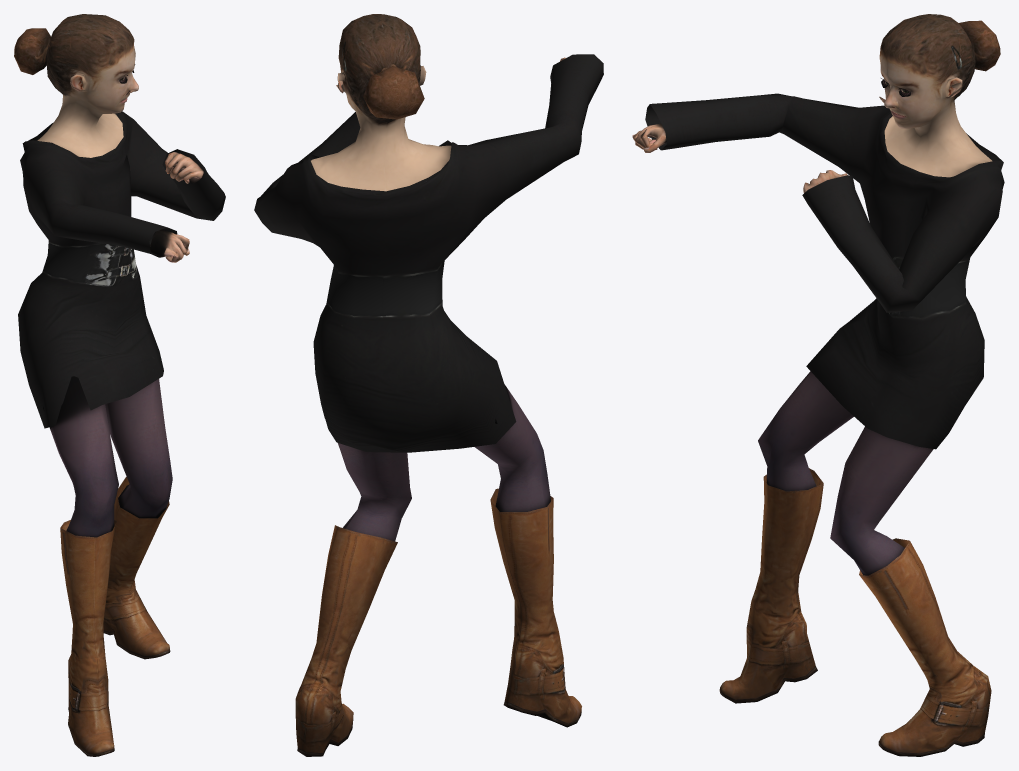
Rendered from Ana_Model_000030.obj.
3 renders of one model, left to right at view 1: azimuth 30°, elevation 25°; view 2: azimuth 150°, elevation 25°; view 3: azimuth 270°, elevation 25°, orthographic. The views are drawn at different scales.
Visible parts, largest first — view 1: Ana_Cube.004; view 2: Ana_Cube.004; view 3: Ana_Cube.004.
Part boxes in pixels (x1,y1,x2,y2): Ana_Cube.004: (14, 14, 225, 756); Ana_Cube.004: (254, 14, 603, 756); Ana_Cube.004: (632, 14, 1004, 756).
Size of the model in its own units: 0.6776 by 1.86 by 0.8717.
1 material, 1 textured.
